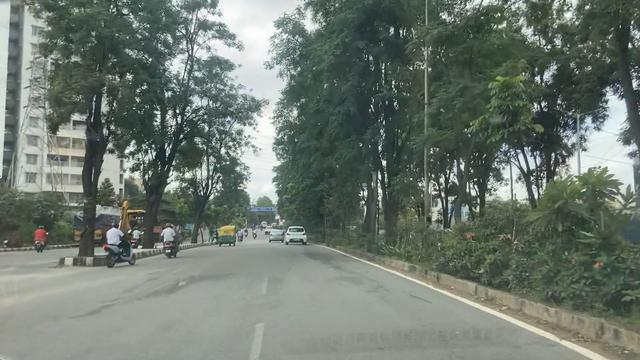LMV: (105, 219, 128, 266), (160, 222, 178, 253), (217, 226, 237, 244), (290, 225, 307, 245), (270, 228, 282, 243)
RoadDamages: (339, 271, 382, 295), (89, 299, 155, 314), (173, 272, 201, 298), (411, 291, 442, 314), (204, 265, 235, 286), (309, 253, 342, 269), (151, 285, 171, 299)
